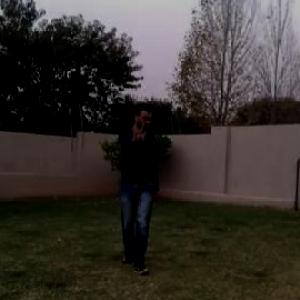takeoff-hand: (123, 114, 147, 148)
